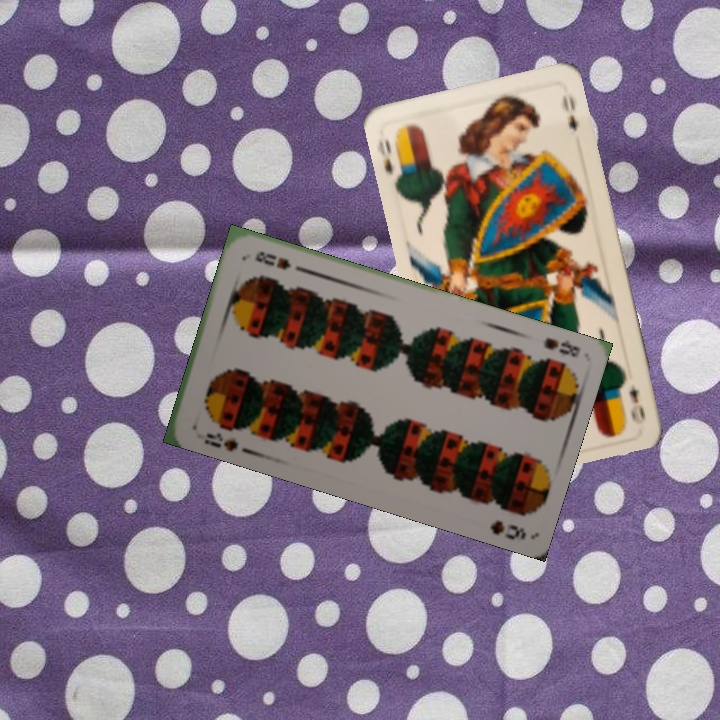EO: (373, 128, 406, 185), (625, 380, 648, 426)
S8: (539, 334, 583, 360), (200, 428, 241, 454)
